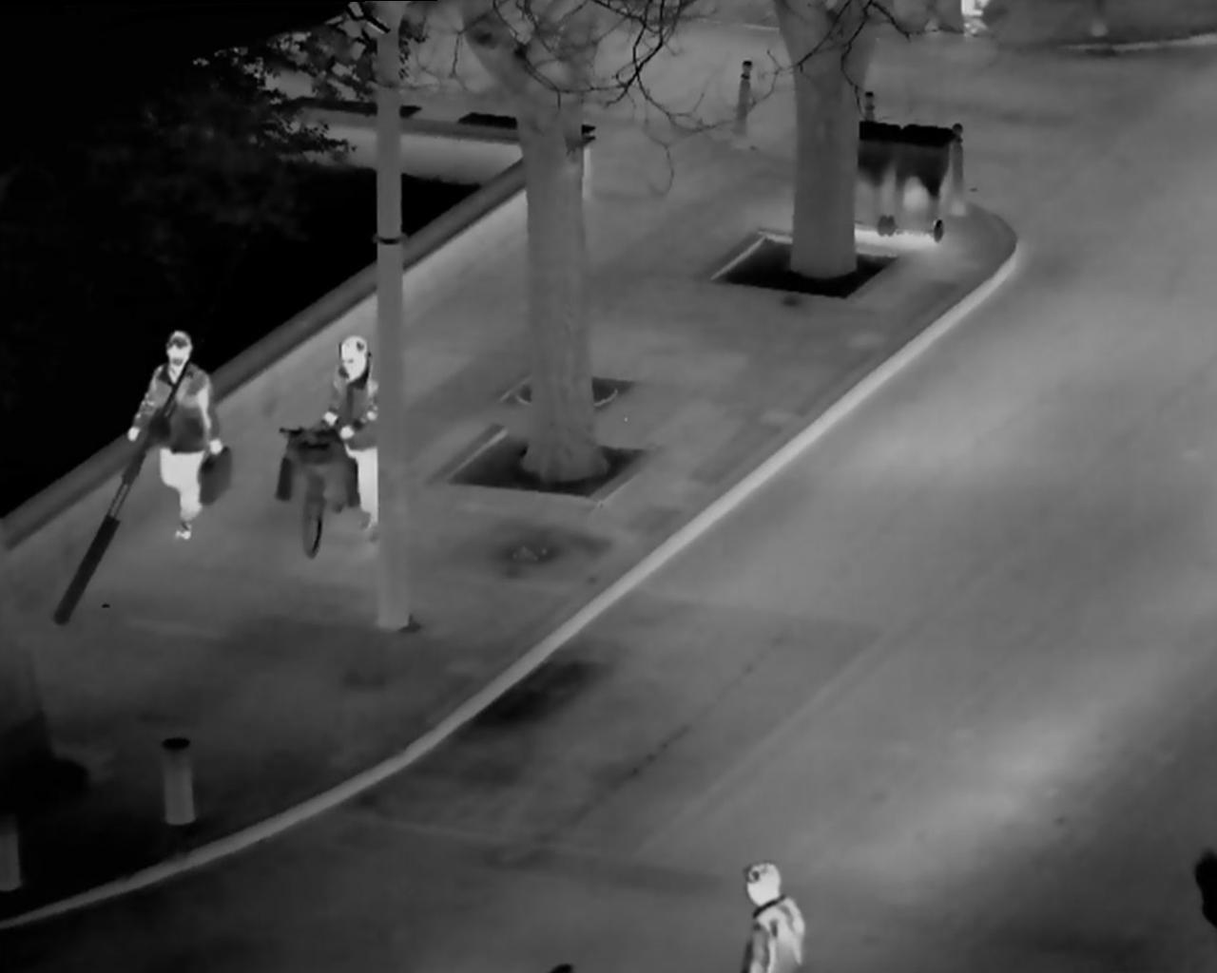person: (124, 318, 237, 542), (318, 333, 411, 548), (727, 851, 826, 973)
